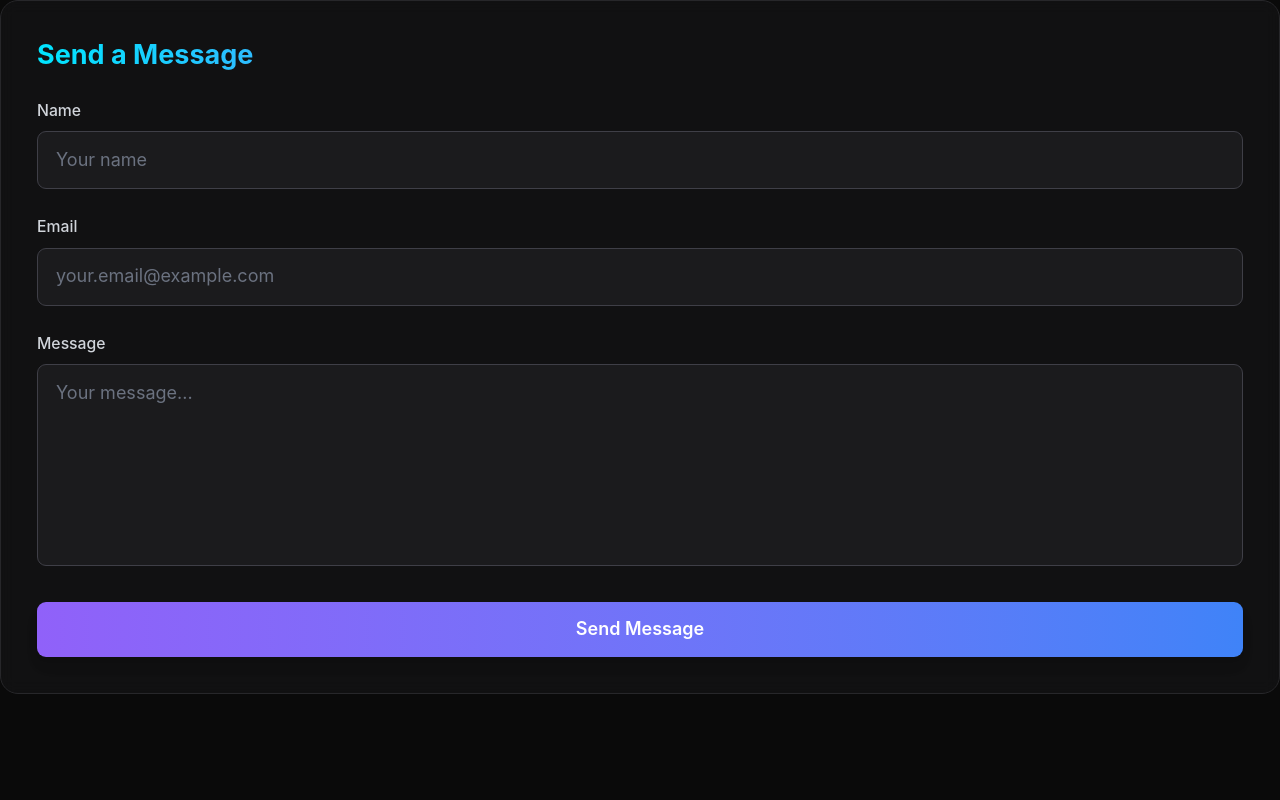
ContactForm › shows success message when API returns ok
Type "Chris" into the field labelled "Name".
click(640, 160); type("Chris")  # box left=37, top=132, right=1243, bottom=189
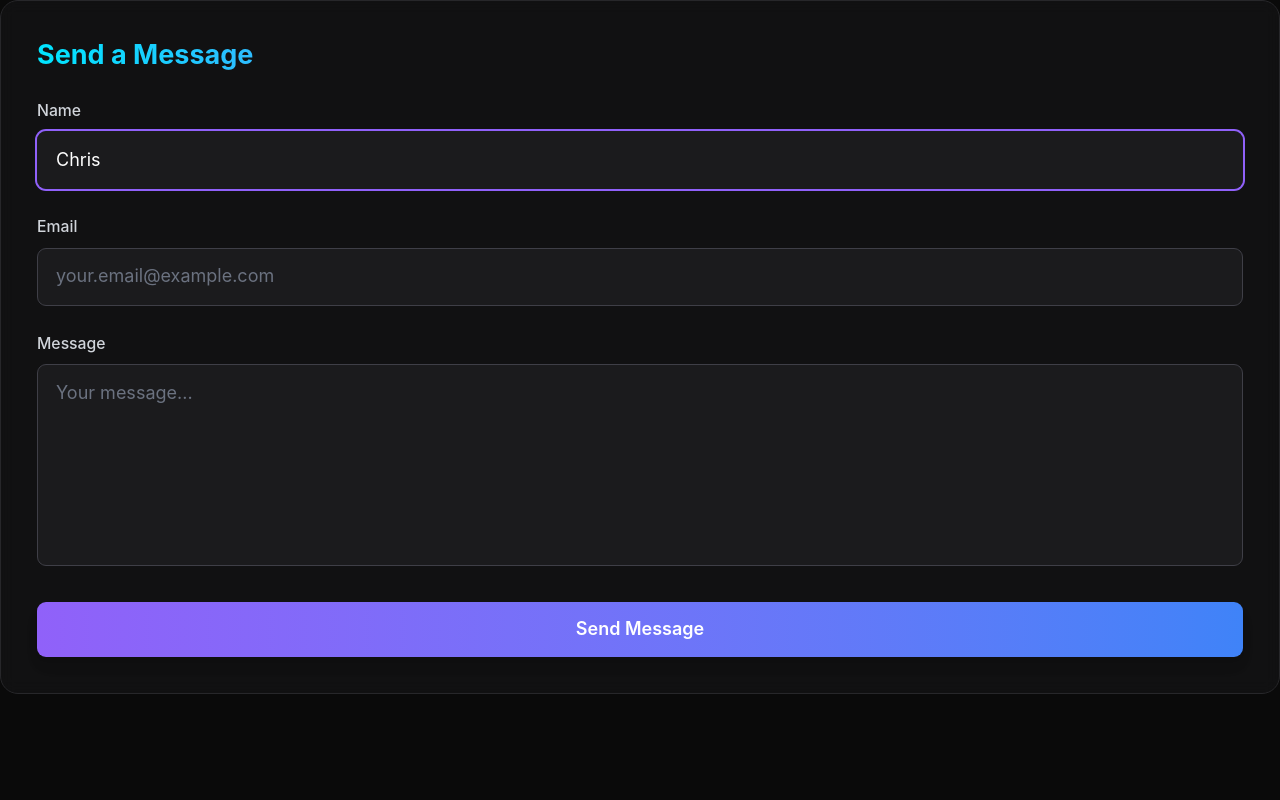
Type "chris@test.com" into the field labelled "Email".
click(640, 277); type("chris@test.com")  # box left=37, top=248, right=1243, bottom=306
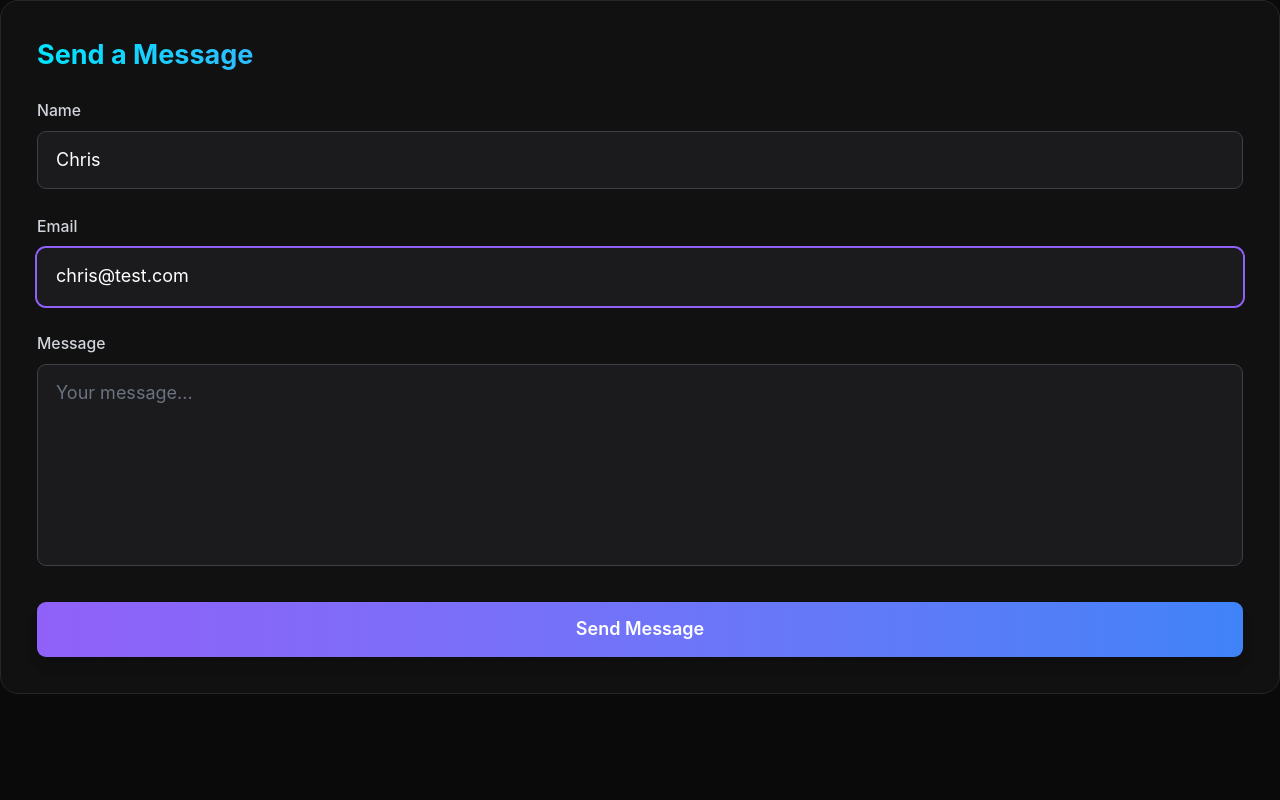
Type "Hello!" into the text box labelled "Message".
click(640, 465); type("Hello!")  # box left=37, top=364, right=1243, bottom=566
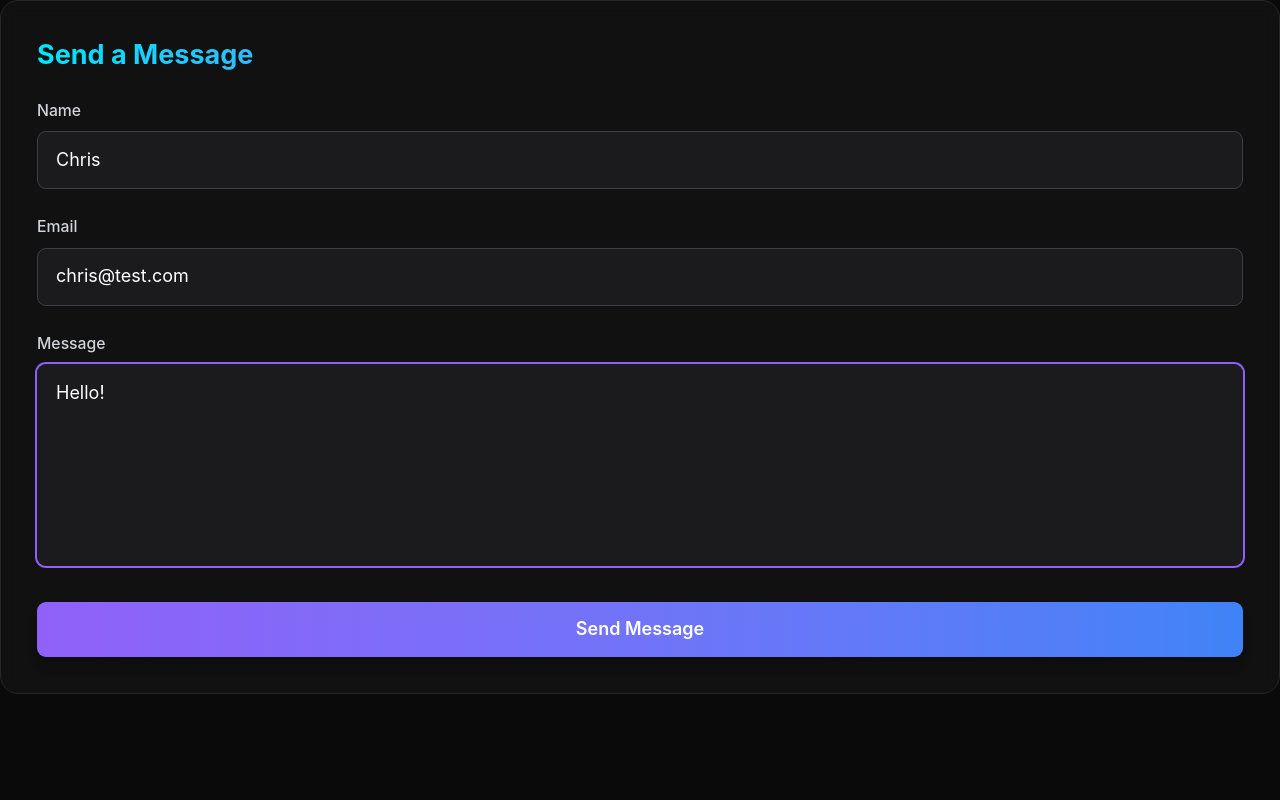
Click the button "Send Message".
click(640, 630)  # box left=37, top=602, right=1243, bottom=658
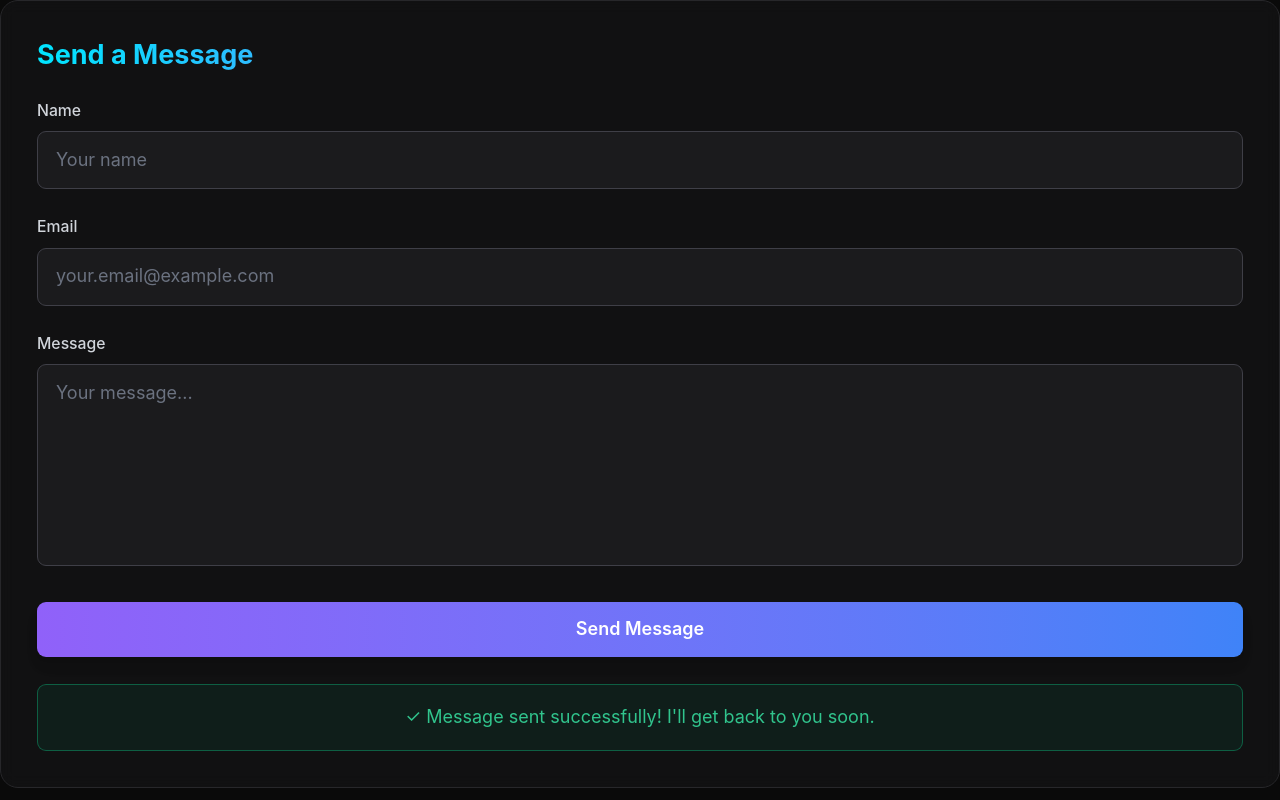
Now the text "✓ Message sent successfully! I'll get back to you soon." is shown, box left=37, top=684, right=1243, bottom=751
Now the field labelled "Name" is empty, box left=37, top=132, right=1243, bottom=189
Now the field labelled "Email" is empty, box left=37, top=248, right=1243, bottom=306
